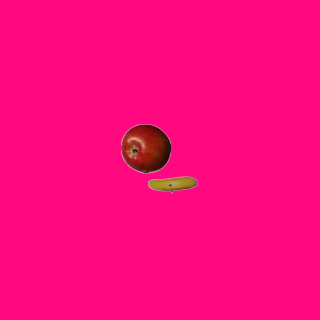Apple Braeburn: (120, 123, 170, 173)
Banana: (147, 159, 197, 209)
